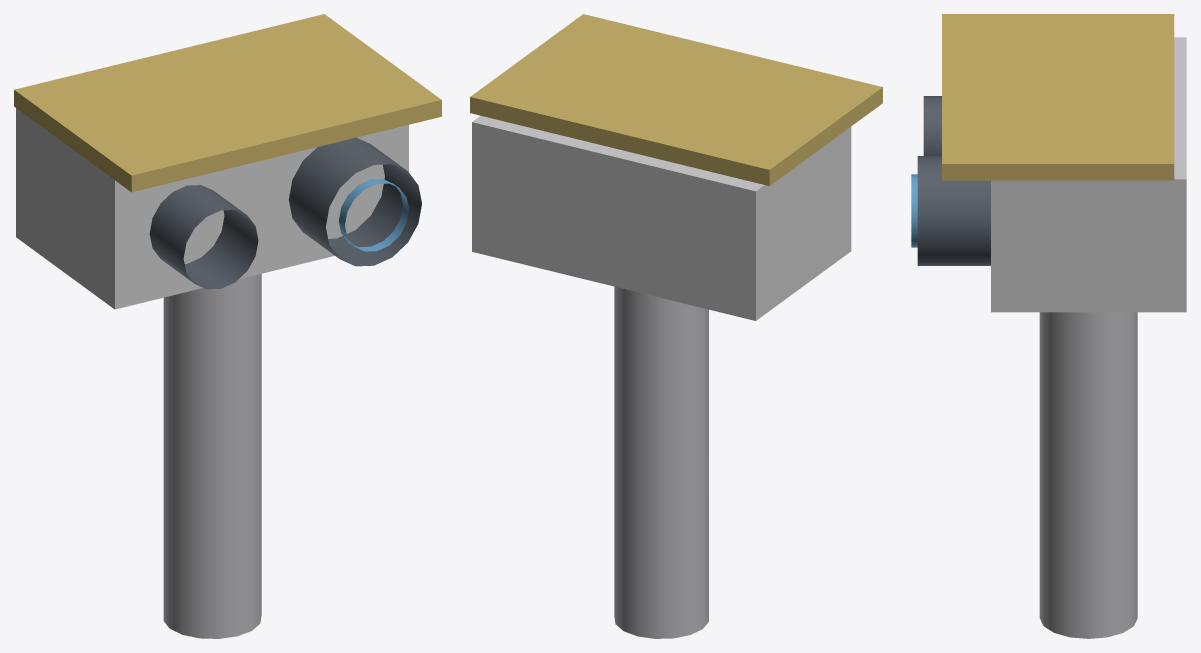
File: curiosity_mastcam.glb
3 renders of one model, left to right at view 1: azimuth 30°, elevation 25°; view 2: azimuth 150°, elevation 25°; view 3: azimuth 270°, elevation 25°, orthographic. The views are drawn at different scales.
Size of the model in its own units: 0.58 by 0.955 by 0.45.
